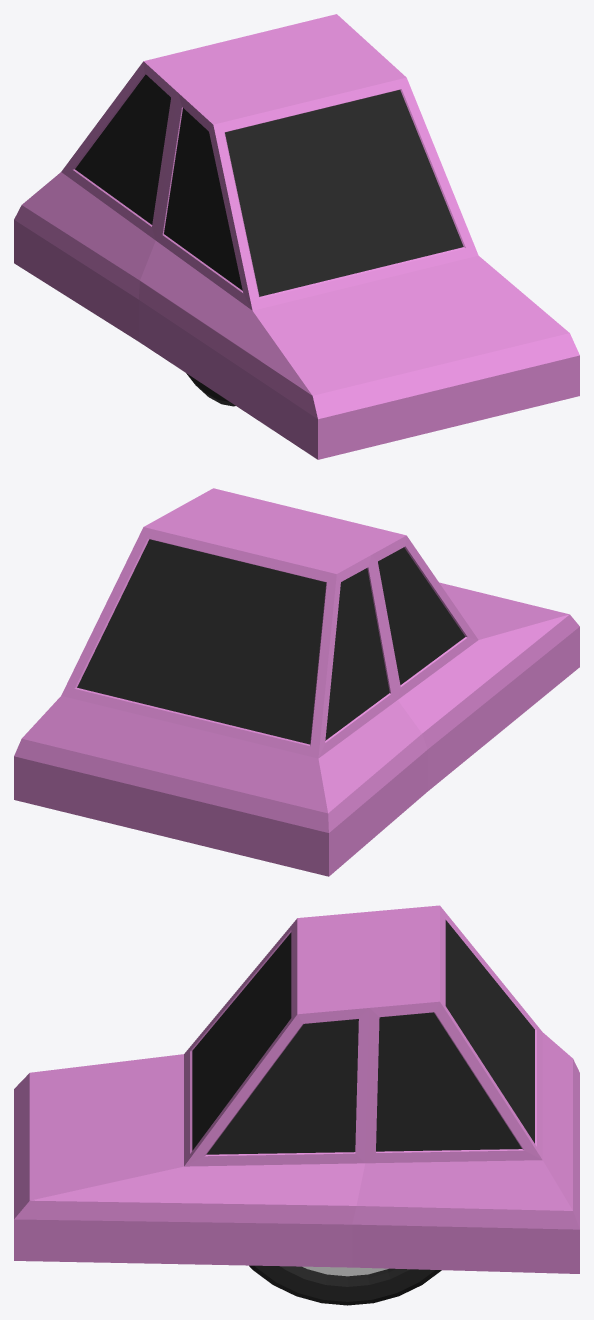
The model's file is car_pink.glb.
The picture shows the model from 3 angles, top to bottom: view 1: azimuth 30°, elevation 25°; view 2: azimuth 150°, elevation 25°; view 3: azimuth 270°, elevation 25°; orthographic projection.
Visible parts, largest first — view 1: Cube; view 2: Cube; view 3: Cube, Cylinder.
Boxes of the visible parts, x1,y1,x2,y2 form: Cube: (14, 14, 579, 459); Cube: (14, 488, 579, 876); Cube: (14, 905, 579, 1273); Cylinder: (249, 1265, 441, 1305).
Bounding box in the file's own units: 1.67 × 1.56 × 2.55.
